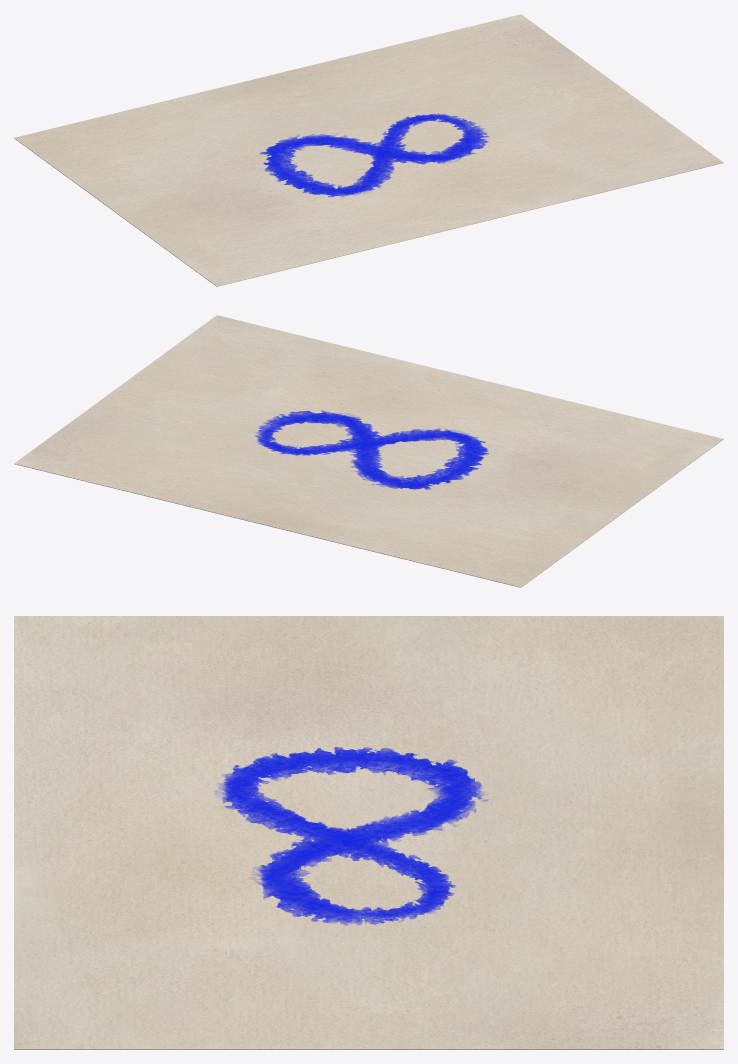
File: mavi8.fbx
3 views of the same model, one above another, from view 1: azimuth 30°, elevation 25°; view 2: azimuth 150°, elevation 25°; view 3: azimuth 270°, elevation 25° (orthographic). The views are drawn at different scales.
Parts seen in each view (by area): view 1: Plane_001; view 2: Plane_001; view 3: Plane_001.
Part boxes in pixels (<box>): Plane_001: <box>14,14,723,286</box>; Plane_001: <box>14,315,723,587</box>; Plane_001: <box>14,616,723,1049</box>.
Size of the model in its own units: 190 by 0.1694 by 132.
Materials: 1 (1 with a texture image).
